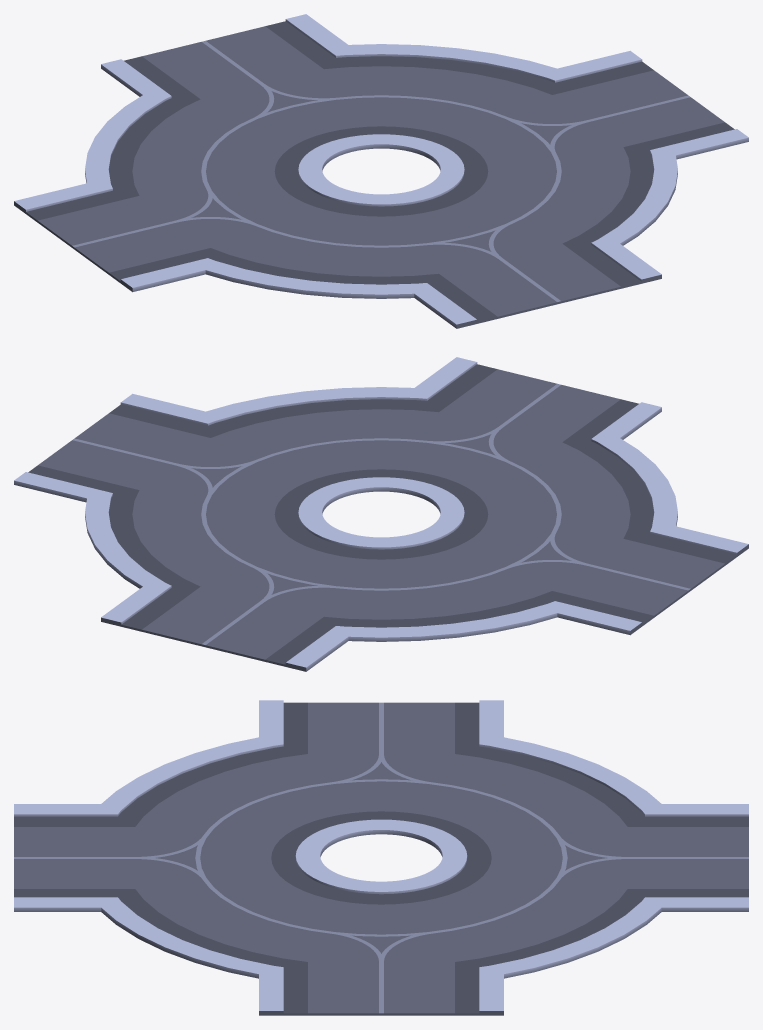
File: road-roundabout.fbx
3 renders of one model, top to bottom at view 1: azimuth 30°, elevation 25°; view 2: azimuth 150°, elevation 25°; view 3: azimuth 270°, elevation 25°, orthographic. The views are drawn at different scales.
Parts seen in each view (by area): view 1: road-roundabout; view 2: road-roundabout; view 3: road-roundabout.
Boxes of the visible parts, <box> form: road-roundabout: <box>14,14,748,328</box>; road-roundabout: <box>14,357,748,671</box>; road-roundabout: <box>14,700,748,1015</box>.
Bounding box in the file's own units: 300 × 2 × 300.
